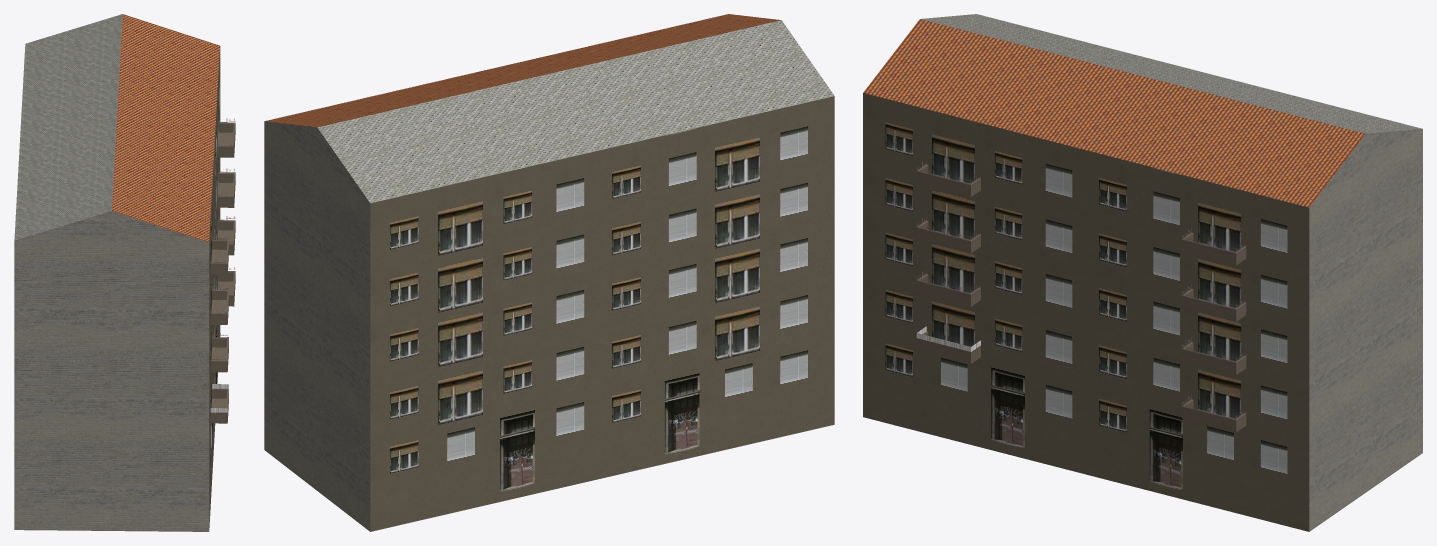
File: Building006.dae
The picture shows the model from 3 angles, left to right: view 1: azimuth 30°, elevation 25°; view 2: azimuth 150°, elevation 25°; view 3: azimuth 270°, elevation 25°; orthographic projection. The views are drawn at different scales.
Visible parts, largest first — view 1: SketchUp (×12); view 2: SketchUp (×4); view 3: SketchUp (×12).
Boxes of the visible parts, x1,y1,x2,y2 form: SketchUp (×12): (14, 14, 235, 531); SketchUp (×4): (264, 14, 834, 531); SketchUp (×12): (863, 14, 1422, 531).
Bounding box in the file's own units: 950 × 1160 × 820.
15 materials, 14 textured.
